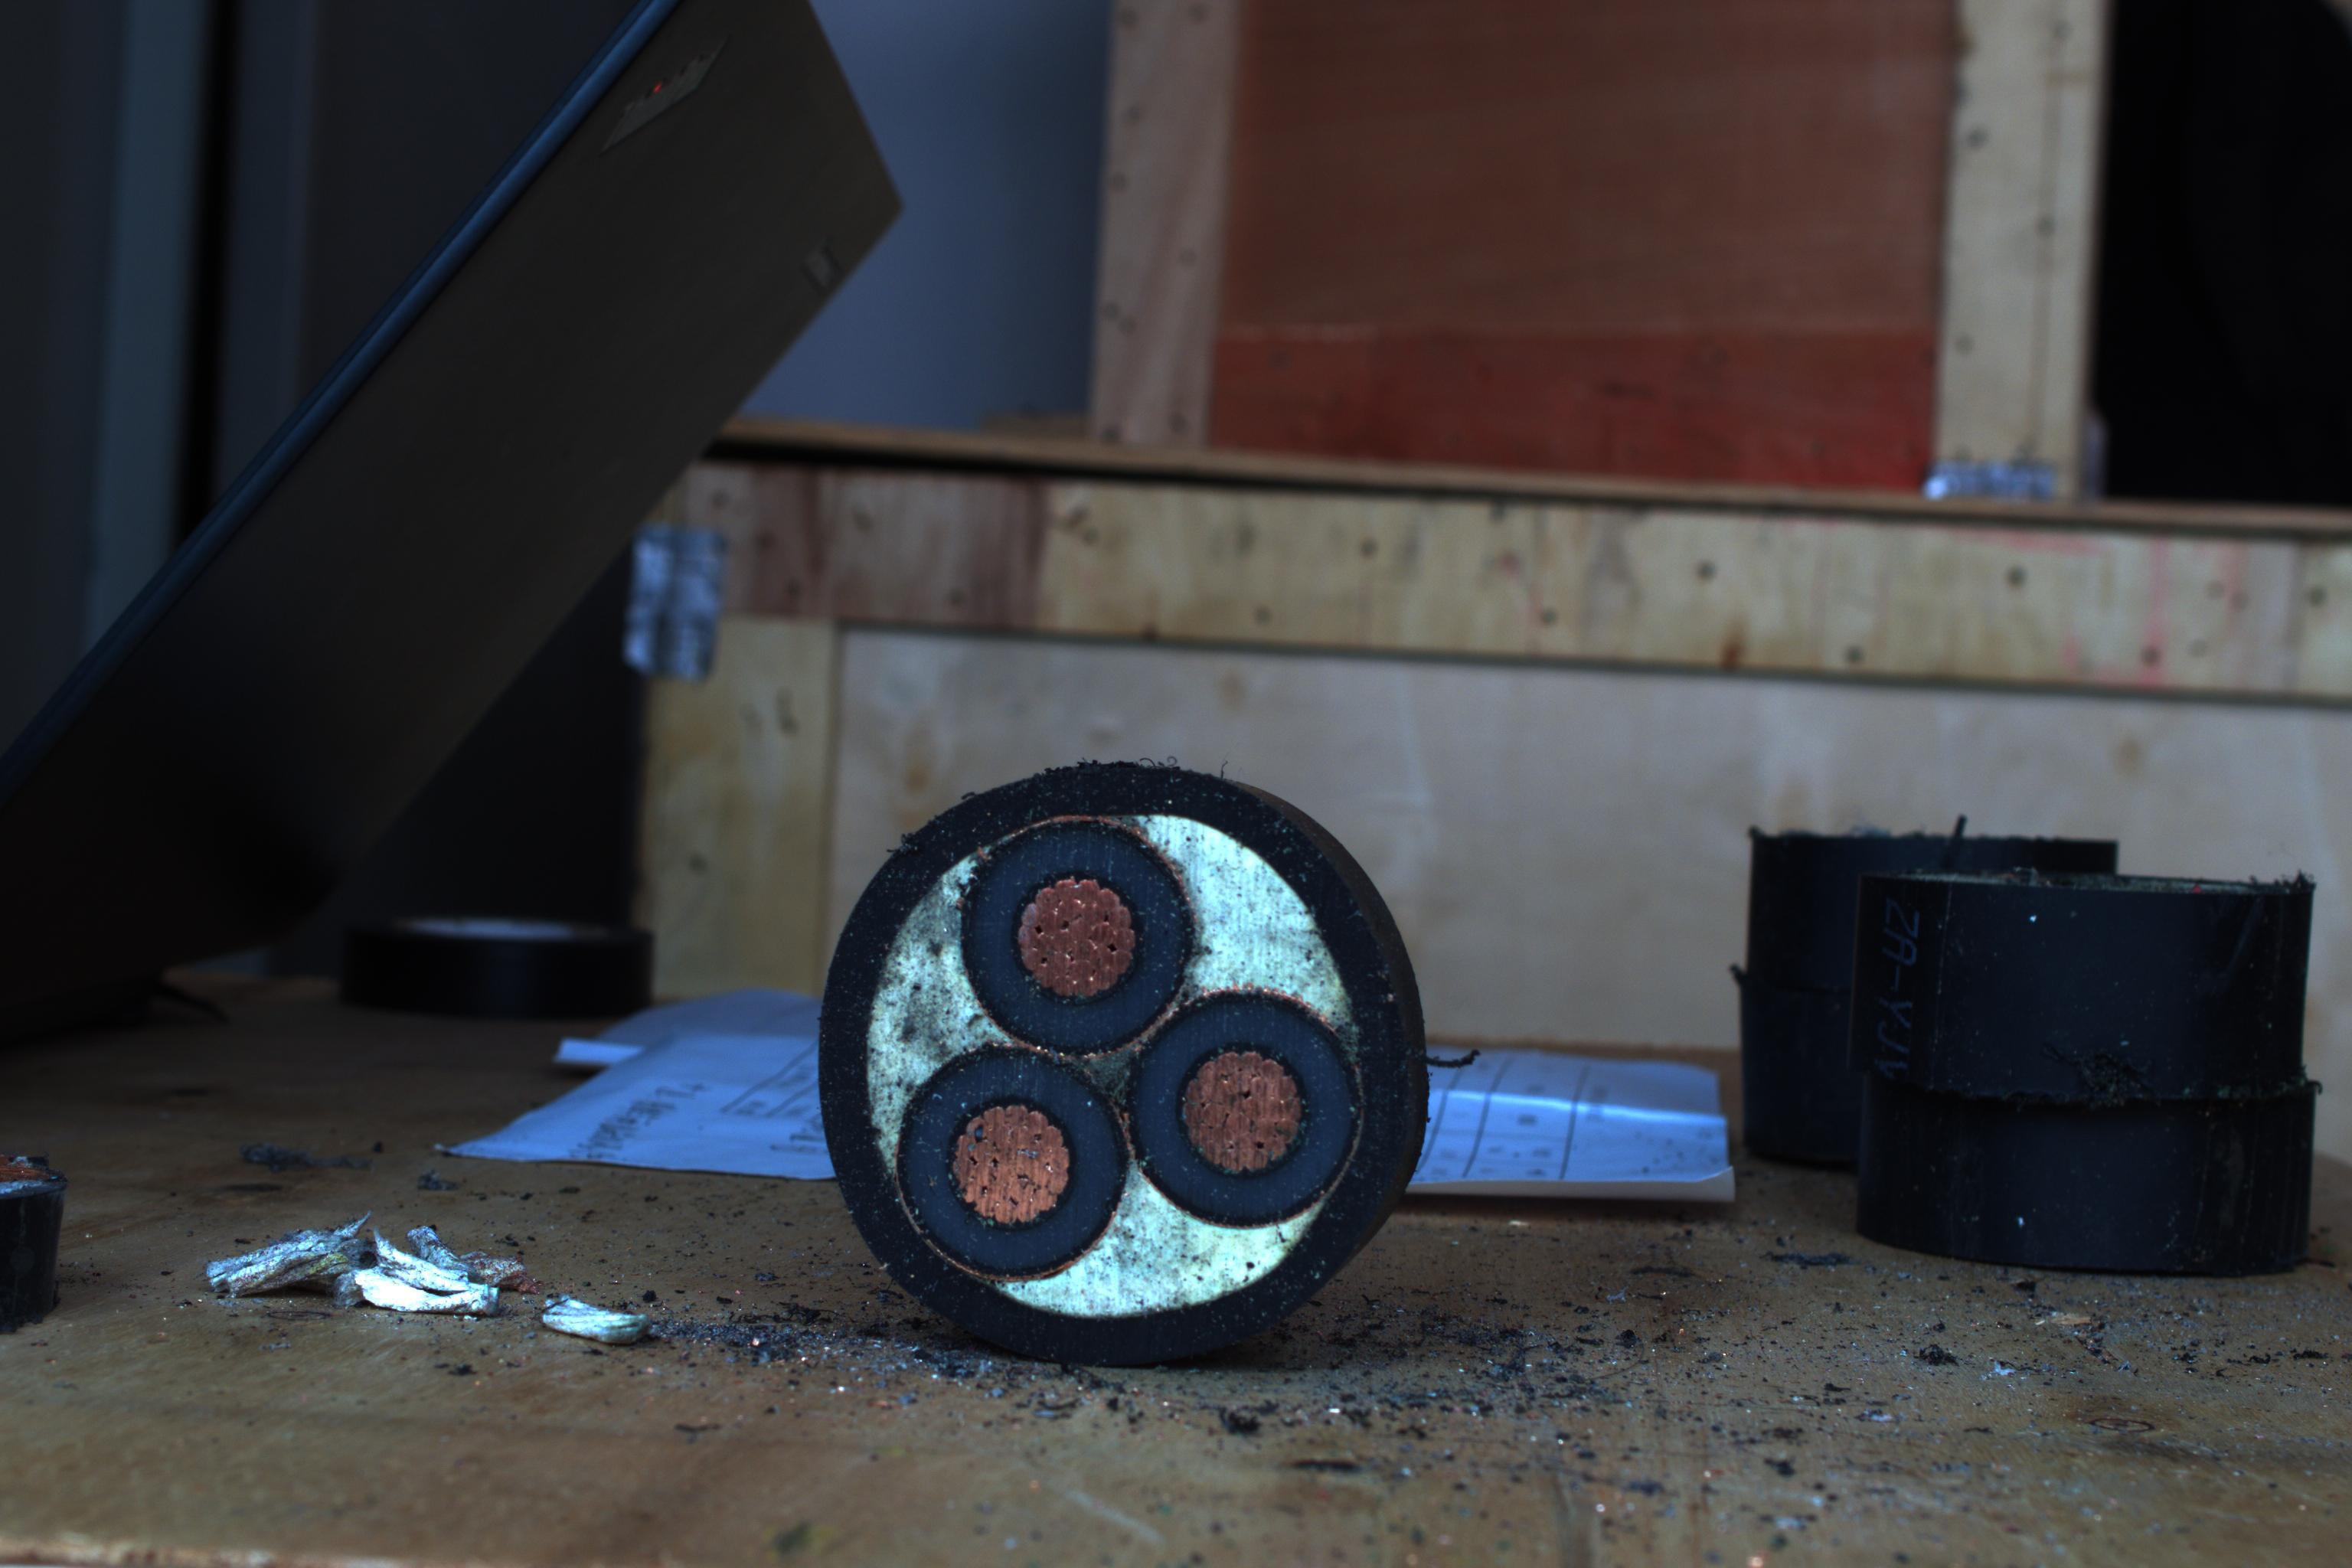ZA_YJV_8.7_10kV_3x120: (836, 773, 1419, 1339)
